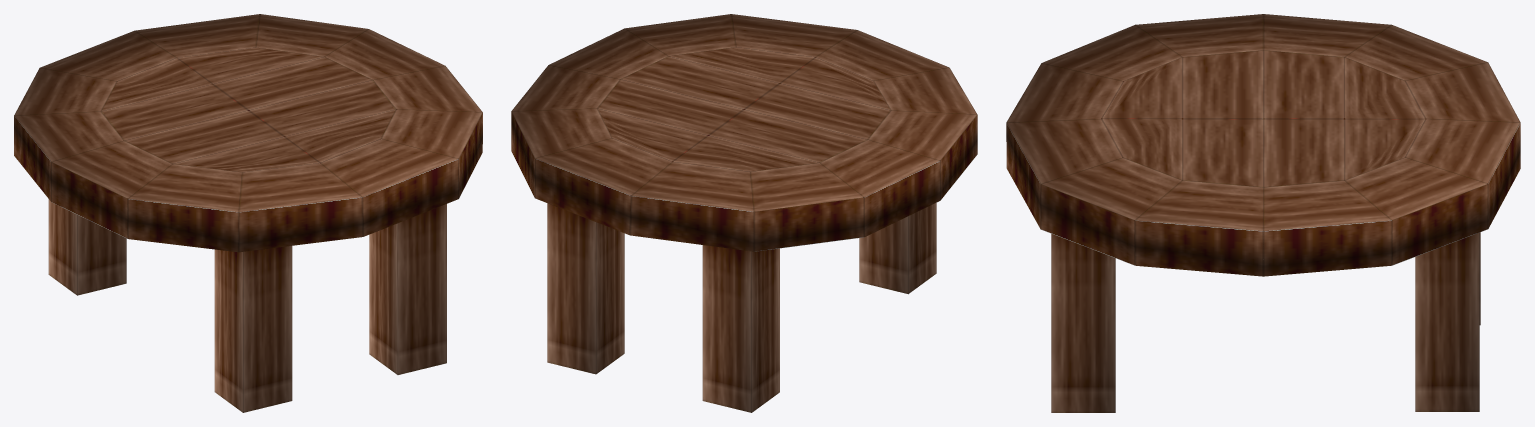
3 views of the same model, side by side, from view 1: azimuth 30°, elevation 25°; view 2: azimuth 150°, elevation 25°; view 3: azimuth 270°, elevation 25° (orthographic). The views are drawn at different scales.
Parts seen in each view (by area): view 1: T1L6M002_1; view 2: T1L6M002_1; view 3: T1L6M002_1.
Boxes of the visible parts, box(x1,y1,x2,y2) form: T1L6M002_1: box(14, 14, 482, 412); T1L6M002_1: box(511, 14, 977, 412); T1L6M002_1: box(1006, 14, 1520, 412).
Size of the model in its own units: 2 by 1.01 by 2.
